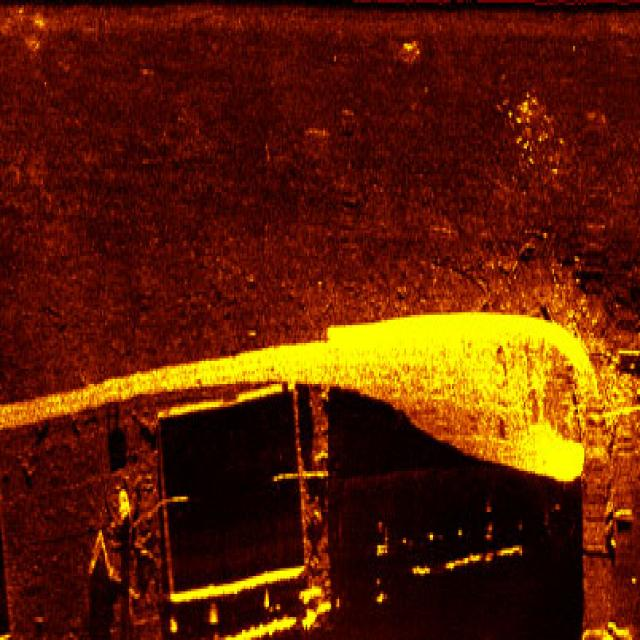other: (11, 307, 619, 630)
